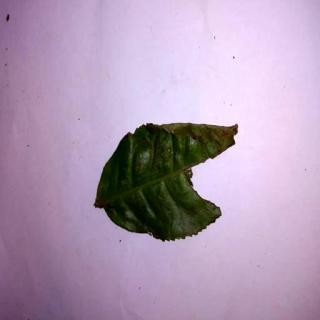Bird Eye Spot: (96, 123, 240, 243)
